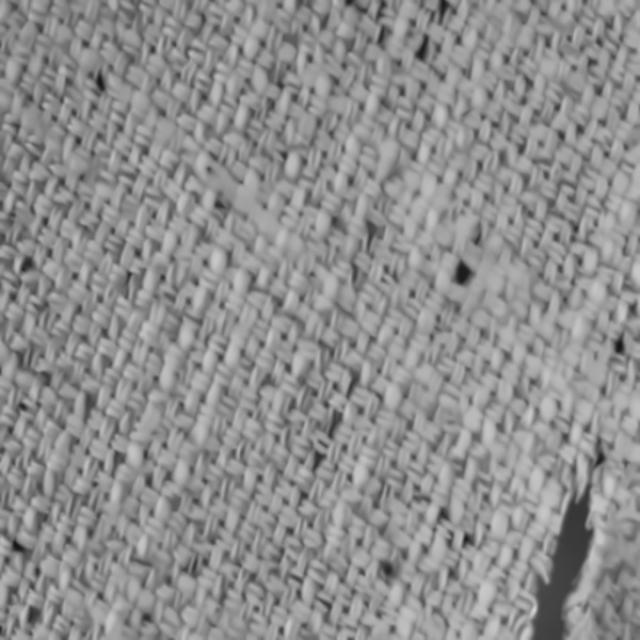seam: (410, 230, 511, 322), (368, 531, 414, 612), (76, 58, 126, 118)
